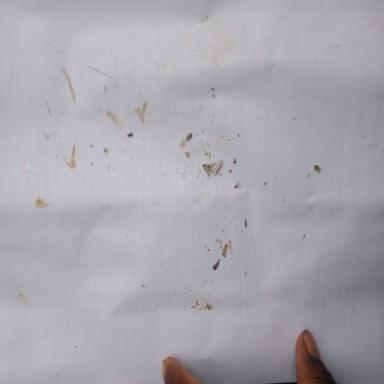pbw: (214, 160, 222, 174), (222, 242, 228, 255)
